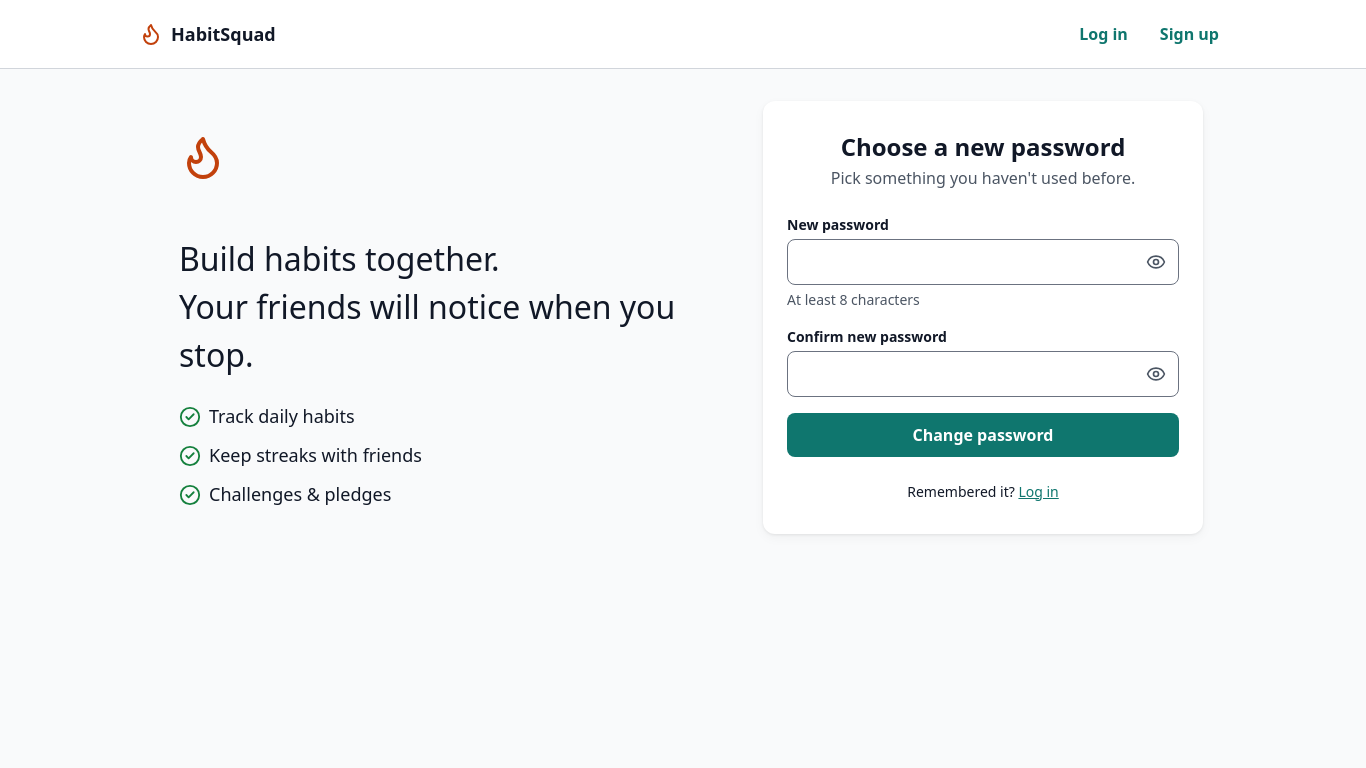
Test case: ResetPasswordPage › rejects "" / "" with "Create a new password."
This screenshot has width=1366, height=768.
Click the button "Change password": (983, 435) top-left (787, 413), bottom-right (1179, 457)
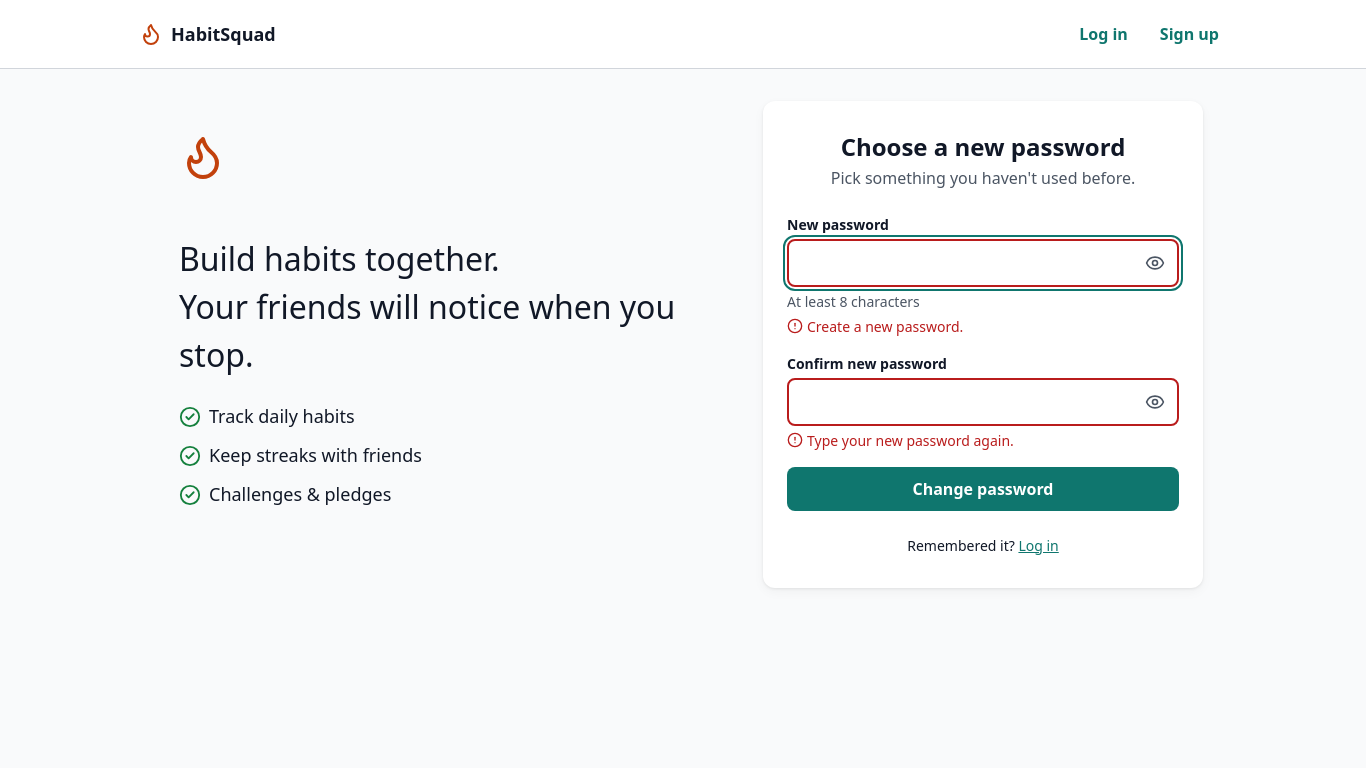
Check: the text "Create a new password." is shown, box top-left (787, 317), bottom-right (963, 336)
